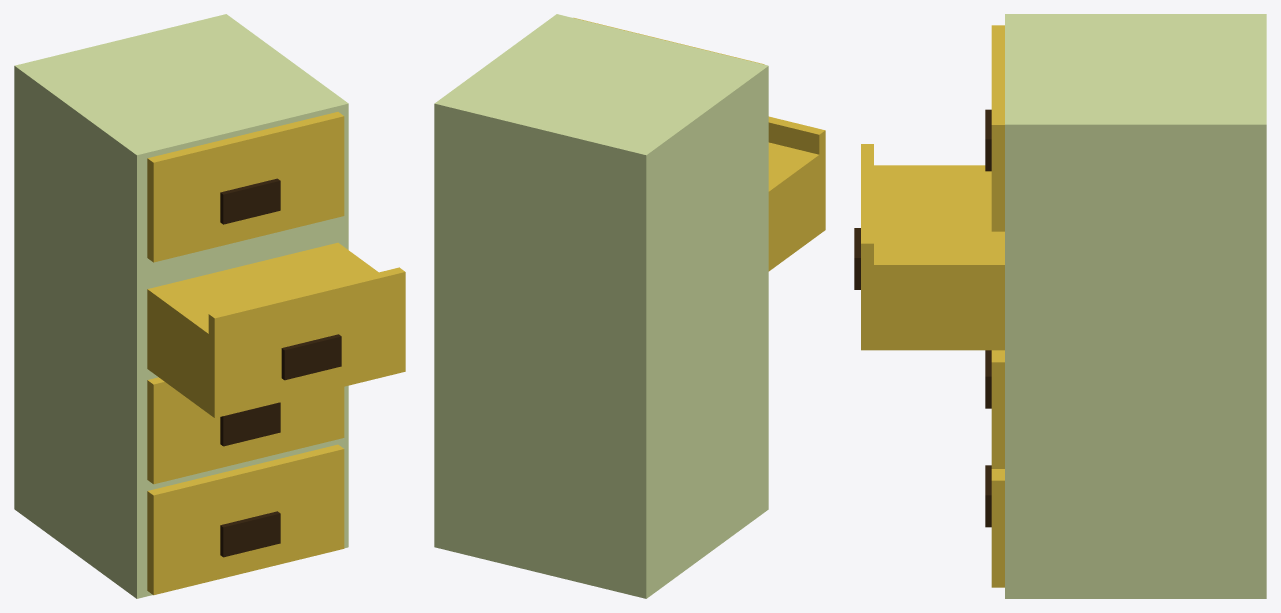
The model's file is filing_cabinet.fbx.
The picture shows the model from 3 angles, left to right: view 1: azimuth 30°, elevation 25°; view 2: azimuth 150°, elevation 25°; view 3: azimuth 270°, elevation 25°; orthographic projection. The views are drawn at different scales.
Visible parts, largest first — view 1: Cube; view 2: Cube; view 3: Cube.
Boxes of the visible parts, x1=… form: Cube: x1=14, y1=14, x2=405, y2=598; Cube: x1=434, y1=14, x2=825, y2=598; Cube: x1=854, y1=14, x2=1266, y2=598.
Bounding box in the file's own units: 200 × 400 × 315.
